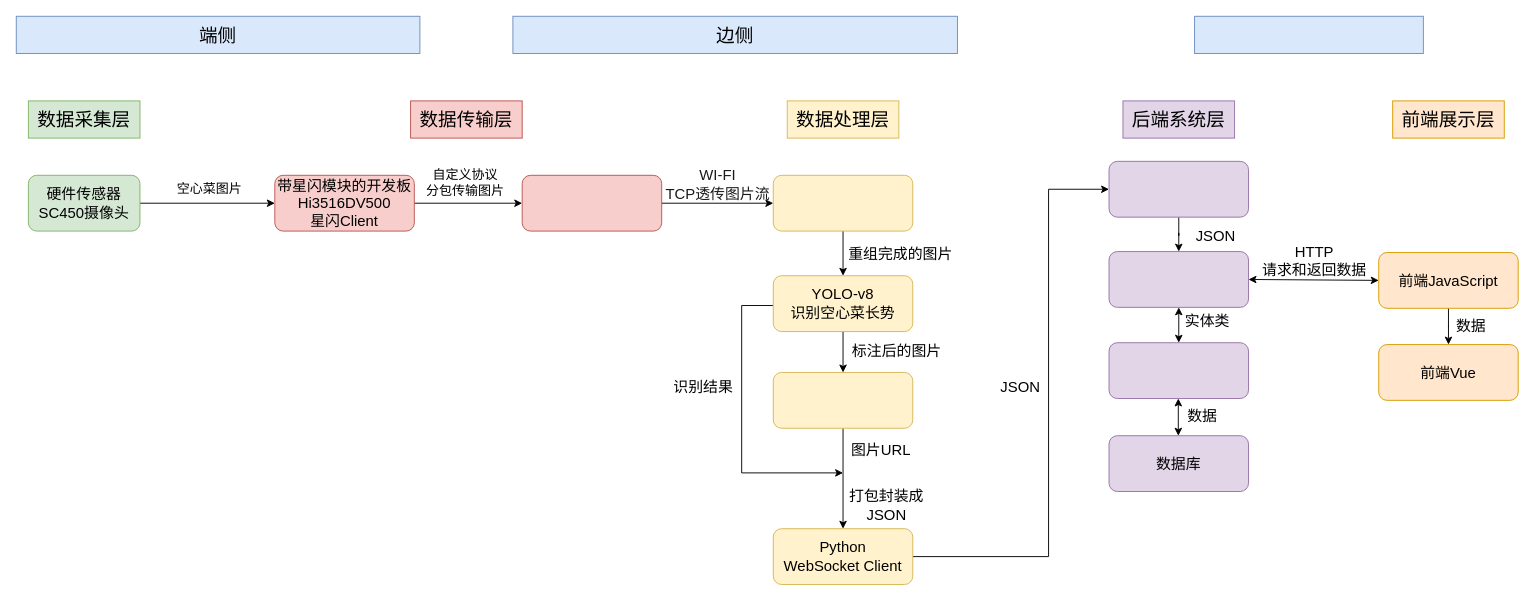
Image size: 1535x601. Some labels were removed from this diagram. The shapes that lost their labels are listed below. From the top down, each one's centre as x and y in pixels, then its label:
the point at 1308,34: 云侧
the point at 591,202: 支持多模块的开发板 Hi3863 星闪Server
the point at 842,202: PC计算机 脚本重组流数据
the point at 1178,188: WebSocket Server 接收数据
the point at 1178,279: 业务逻辑层 解析数据
the point at 1178,370: 数据访问层 数据持久化
the point at 842,400: 推送到AliOSS 进行云端存储
